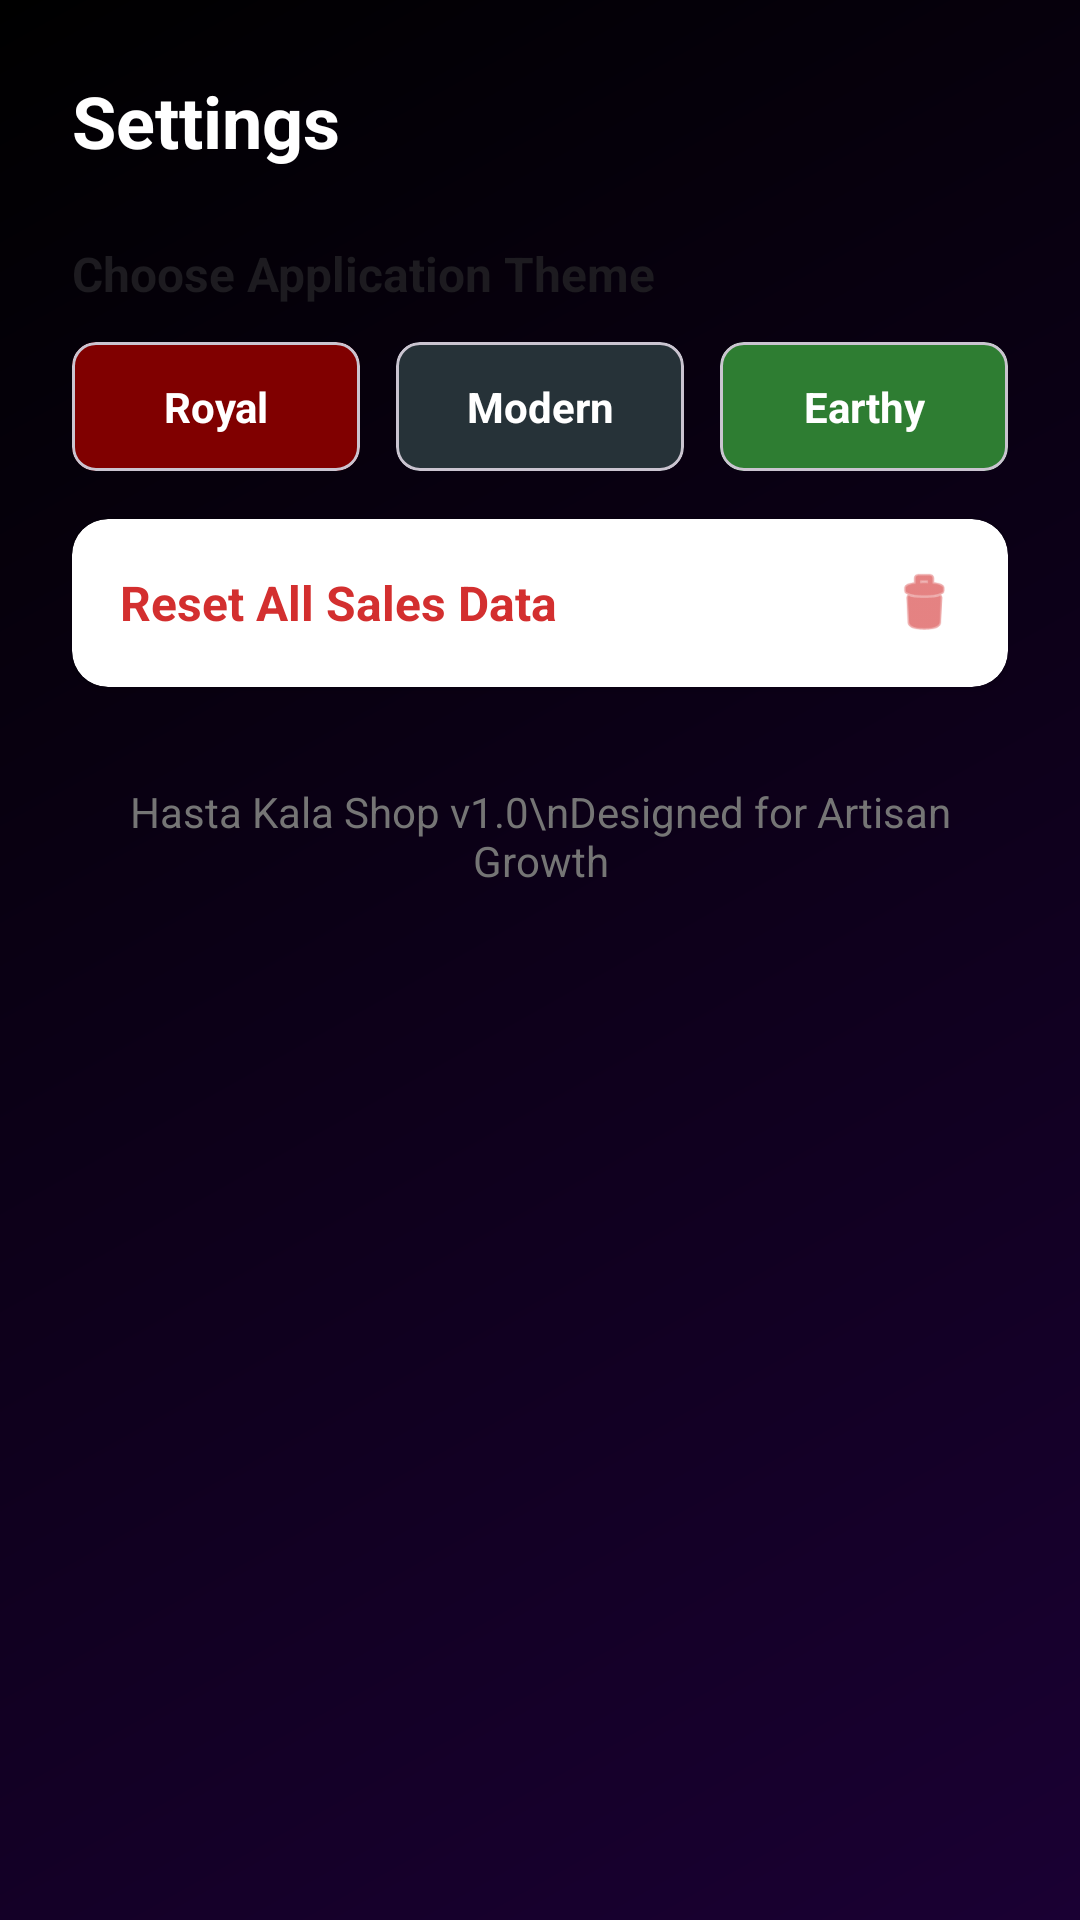

Locate icon controls on the screen. Image size 1080 × 1920, boxes as (x1, y1, x2, y2).
delete: (904, 574, 945, 630)
